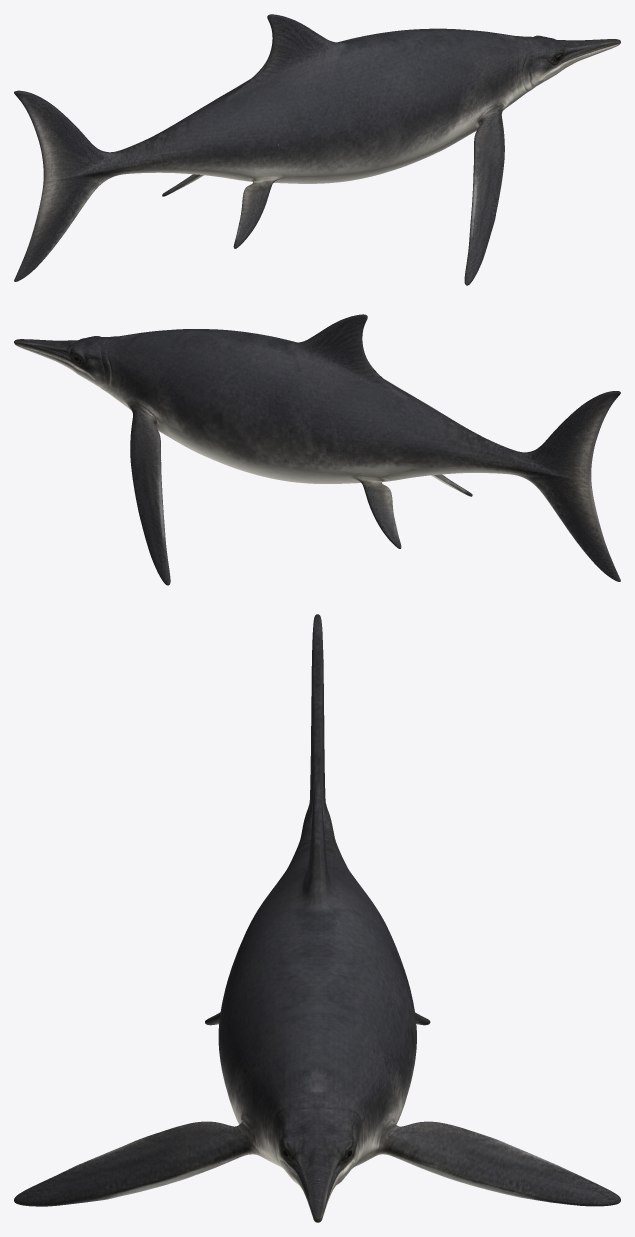
3 views of the same model, one above another, from view 1: azimuth 30°, elevation 25°; view 2: azimuth 150°, elevation 25°; view 3: azimuth 270°, elevation 25° (orthographic). The views are drawn at different scales.
Visible parts, largest first — view 1: Authored orientation; view 2: Authored orientation; view 3: Authored orientation.
Boxes of the visible parts, <box> form: Authored orientation: <box>14,14,620,285</box>; Authored orientation: <box>14,314,620,585</box>; Authored orientation: <box>14,614,620,1222</box>.
Bounding box in the file's own units: 2.3 × 0.8098 × 1.29.
Materials: 1 (1 with a texture image).
